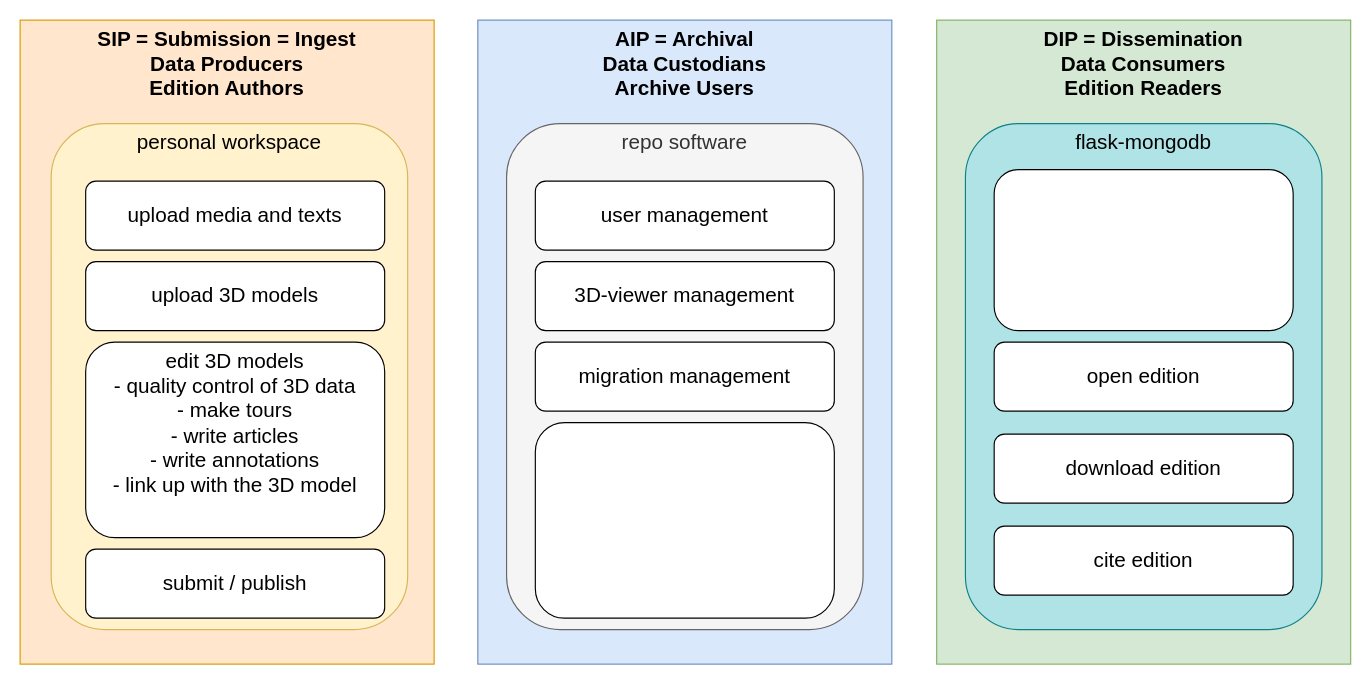
Image size: 1371x684. Some labels were removed from this diagram. Each missing label, with the centre of its shape:
"datasets - metadata - media - 3D models - annotations" belongs at point (684, 519).
"search browse: editions metadata media annotations" belongs at point (1143, 249).
